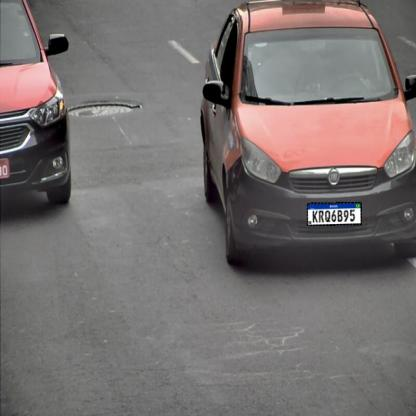PlacaM: (307, 202, 362, 226)
